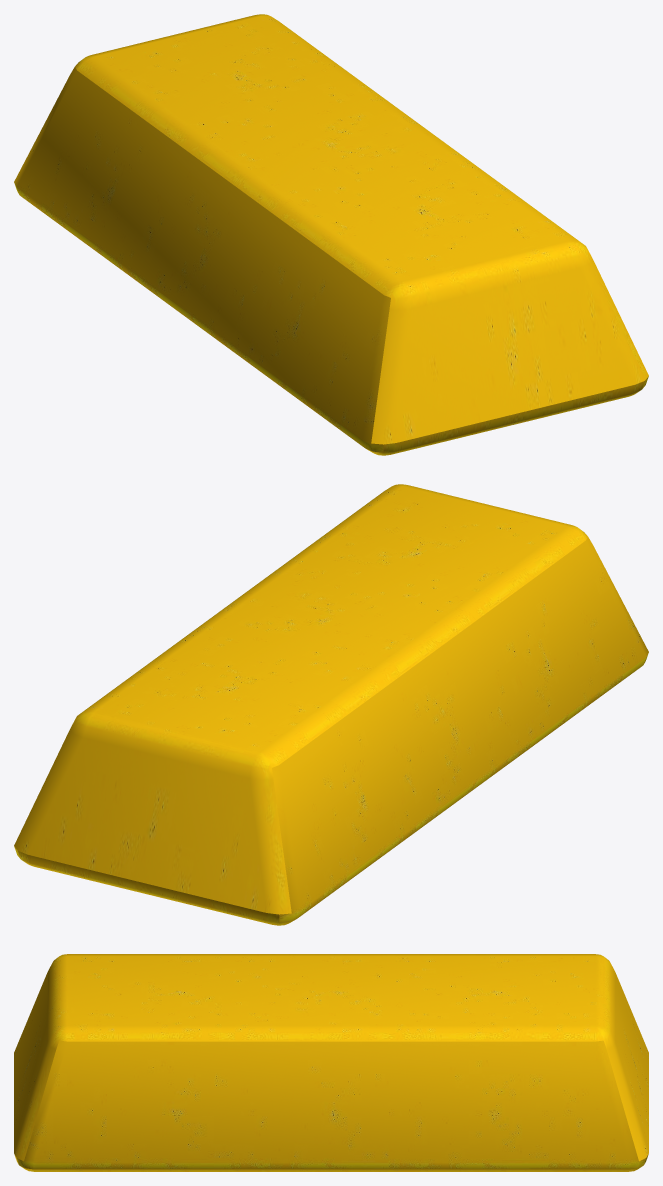
3 renders of one model, top to bottom at view 1: azimuth 30°, elevation 25°; view 2: azimuth 150°, elevation 25°; view 3: azimuth 270°, elevation 25°, orthographic. The views are drawn at different scales.
Parts seen in each view (by area): view 1: 59983d68-b28c-4af2-bdbc-7e884c7c2213; view 2: 59983d68-b28c-4af2-bdbc-7e884c7c2213; view 3: 59983d68-b28c-4af2-bdbc-7e884c7c2213.
Part boxes in pixels (<box>): 59983d68-b28c-4af2-bdbc-7e884c7c2213: <box>14,14,648,455</box>; 59983d68-b28c-4af2-bdbc-7e884c7c2213: <box>14,484,648,925</box>; 59983d68-b28c-4af2-bdbc-7e884c7c2213: <box>14,954,648,1171</box>.
Size of the model in its own units: 88.88 by 44.44 by 200.
Materials: 1 (1 with a texture image).
